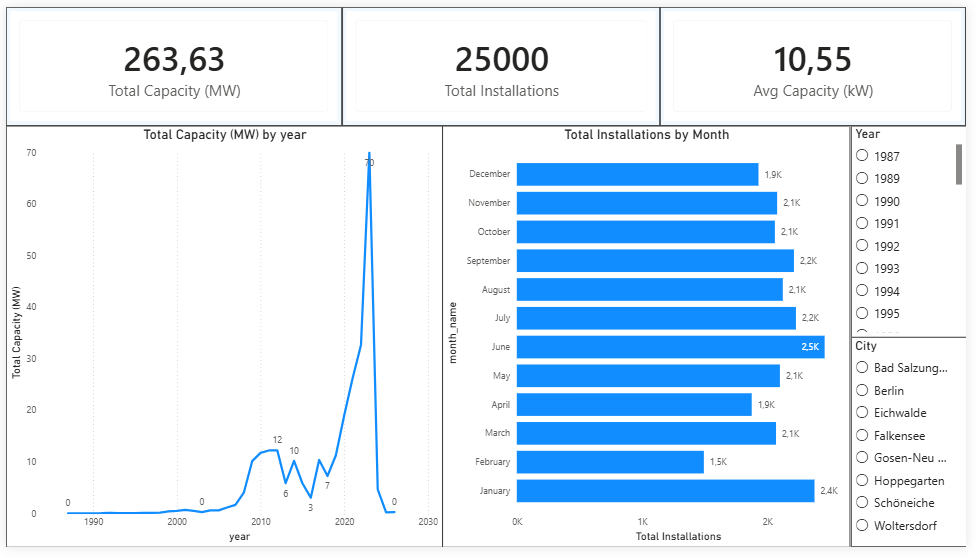

What the dashboard file says about the page in this screenshot:
{"tool":"powerbi","page":{"name":"Page 1","canvas":[1280,720],"ordinal":0},"visuals":[{"type":"cardVisual","fields":{"Data":["fct_installations.Total Capacity (MW)"]},"box":[0,0,448,158],"z":0},{"type":"cardVisual","fields":{"Data":["fct_installations.Total Installations"]},"box":[448,0,424,158],"z":1000},{"type":"cardVisual","fields":{"Data":["fct_installations.Avg Capacity (kW)"]},"box":[872,0,408,158],"z":2000},{"type":"lineChart","fields":{"Category":["dim_date.year"],"Y":["fct_installations.Total Capacity (MW)"]},"box":[0,158,582,562],"z":3000},{"type":"clusteredBarChart","title":"Total Installations by Month","fields":{"Y":["fct_installations.Total Installations"],"Category":["dim_date.month_name"]},"box":[582,158,544,562],"z":4000},{"type":"listSlicer","title":"Year","fields":{"Values":["dim_date.year"]},"box":[1126,158,154,282],"z":5000},{"type":"listSlicer","title":"City","fields":{"Values":["dim_geography.city"]},"box":[1126,440,154,280],"z":6000}]}

Visuals, with their boxes in screenshot pixels (x1, y1, x2, y2), scaled from the page's 1280x720 canvas onto the 976x558 screenshot:
cardVisual - fct_installations.Total Capacity (MW): box(0, 0, 342, 122)
cardVisual - fct_installations.Total Installations: box(342, 0, 665, 122)
cardVisual - fct_installations.Avg Capacity (kW): box(665, 0, 975, 122)
lineChart - dim_date.year x fct_installations.Total Capacity (MW): box(0, 122, 444, 557)
"Total Installations by Month" clusteredBarChart: box(444, 122, 859, 557)
"Year" listSlicer: box(859, 122, 975, 341)
"City" listSlicer: box(859, 341, 975, 557)
